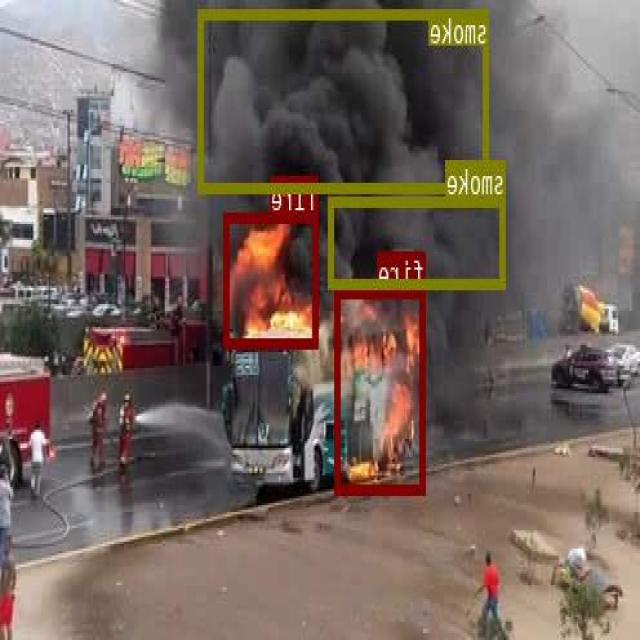fire: (336, 287, 426, 492), (226, 212, 320, 345)
smoke: (200, 8, 489, 192), (330, 194, 507, 286)
